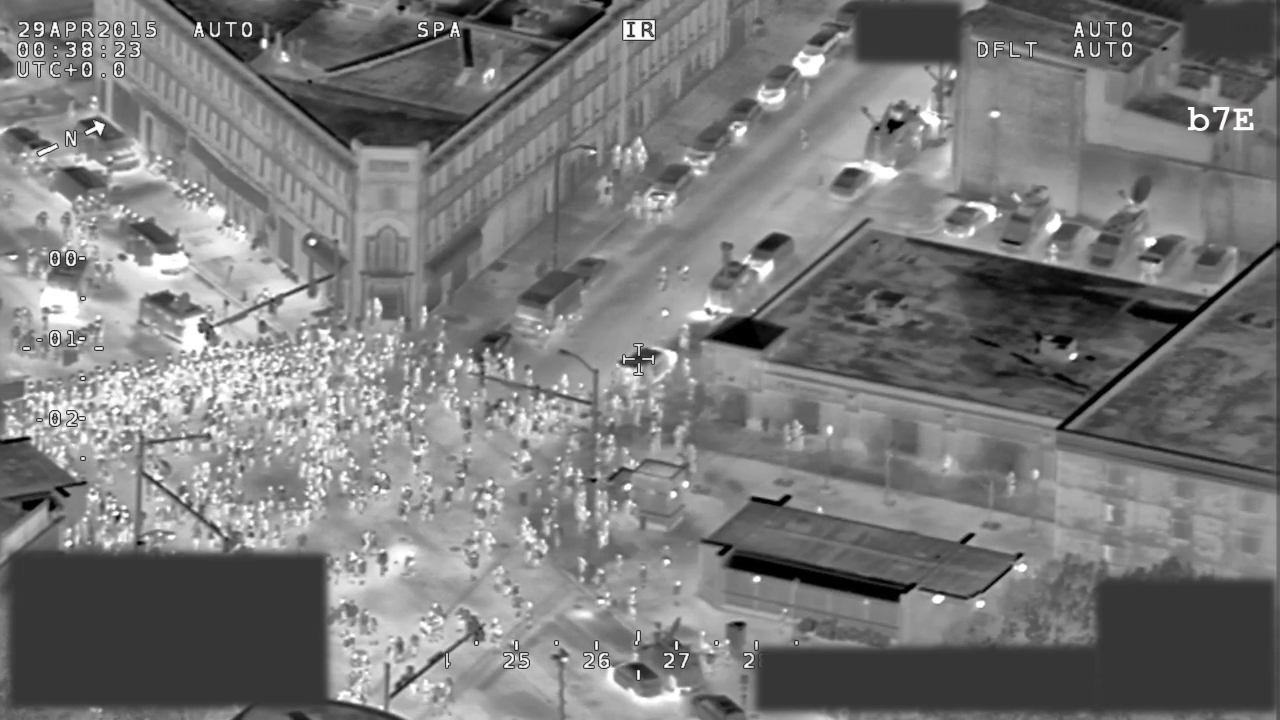vehicle: (1086, 169, 1160, 274), (128, 284, 229, 357), (634, 616, 715, 696), (512, 266, 584, 350), (31, 249, 107, 325), (865, 96, 936, 176), (70, 106, 149, 177), (992, 179, 1065, 254), (117, 215, 196, 278), (702, 238, 759, 325), (42, 162, 115, 214), (789, 23, 853, 79), (612, 343, 682, 392), (1183, 239, 1246, 292), (1, 117, 57, 173), (741, 228, 799, 279), (1136, 228, 1188, 284), (636, 168, 693, 219), (601, 660, 667, 702), (941, 196, 1000, 240), (683, 123, 734, 172), (825, 163, 876, 207), (753, 67, 798, 114), (1044, 216, 1089, 263), (467, 323, 515, 367), (720, 96, 763, 140), (569, 249, 606, 291)
